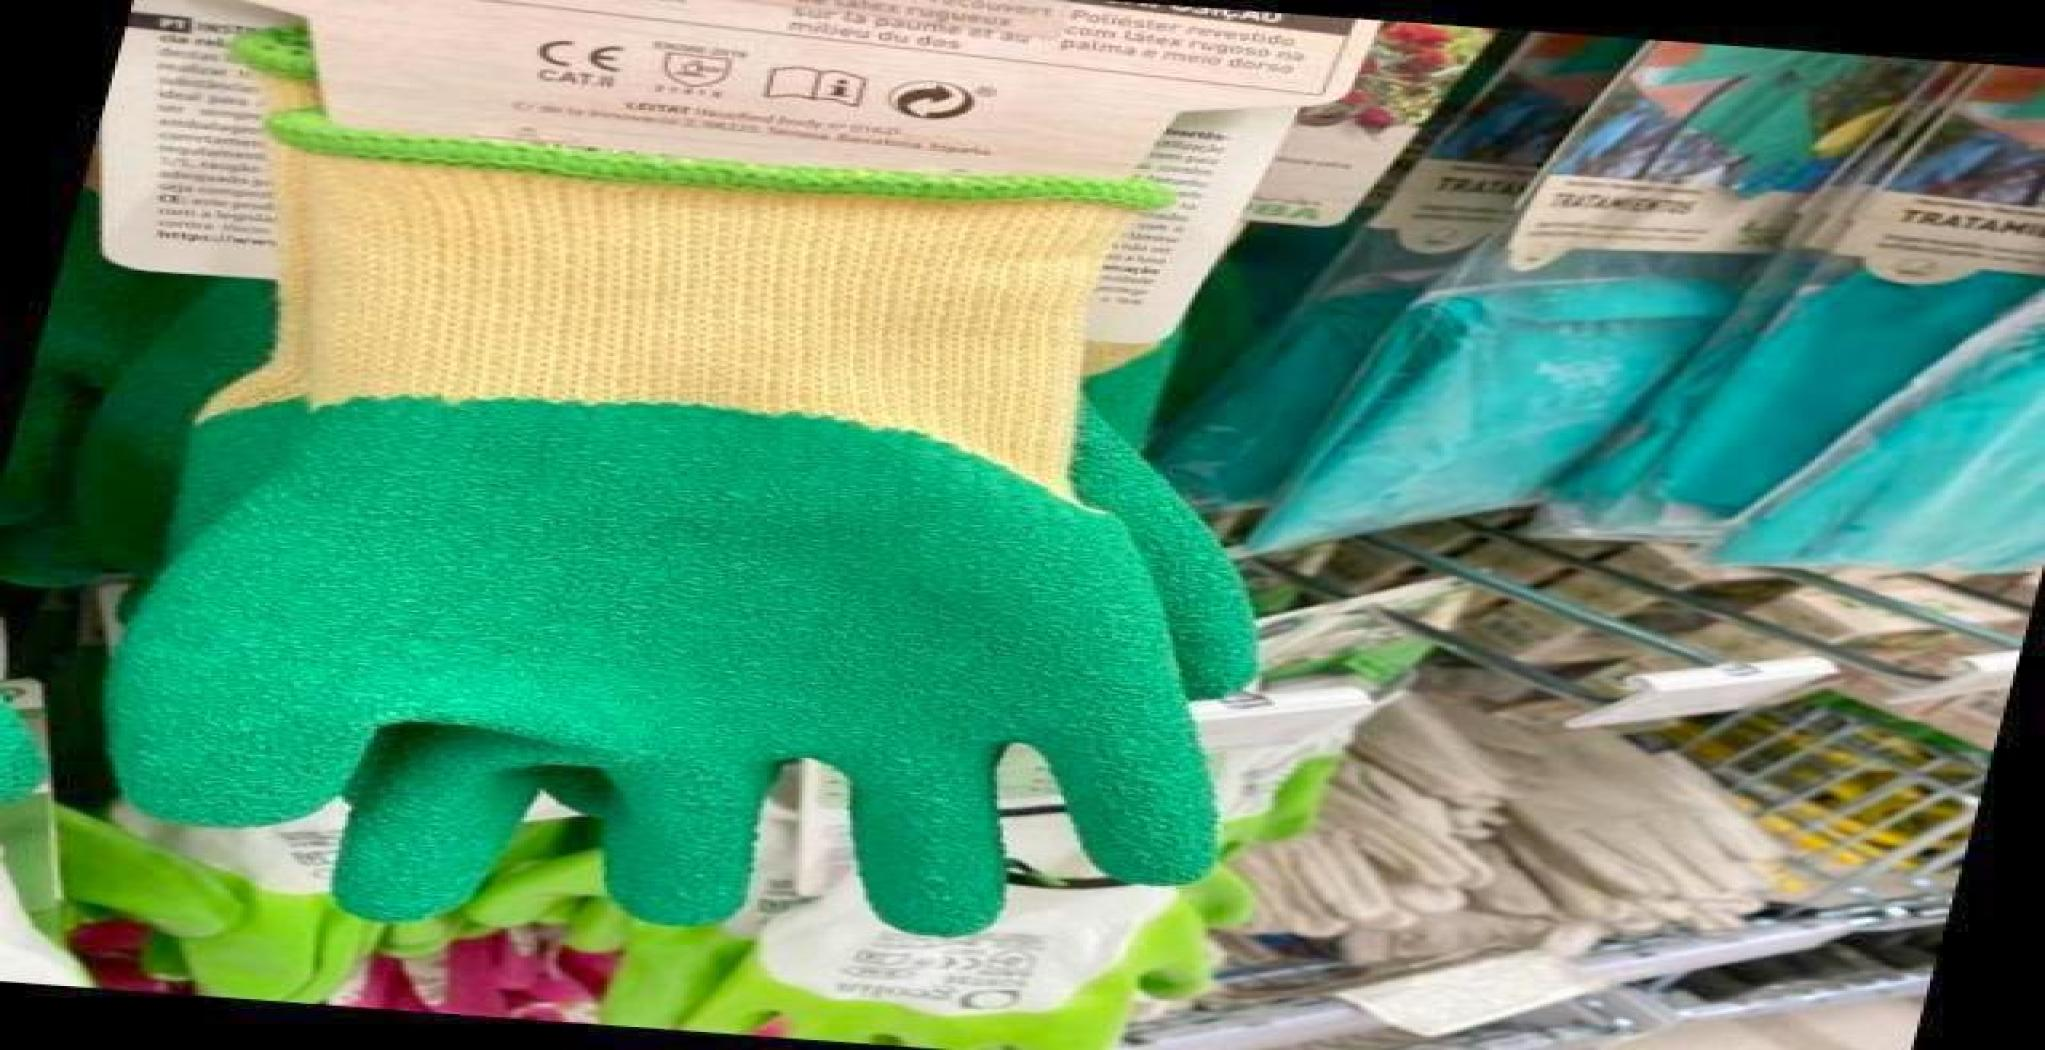gloved: (238, 96, 1268, 907)
